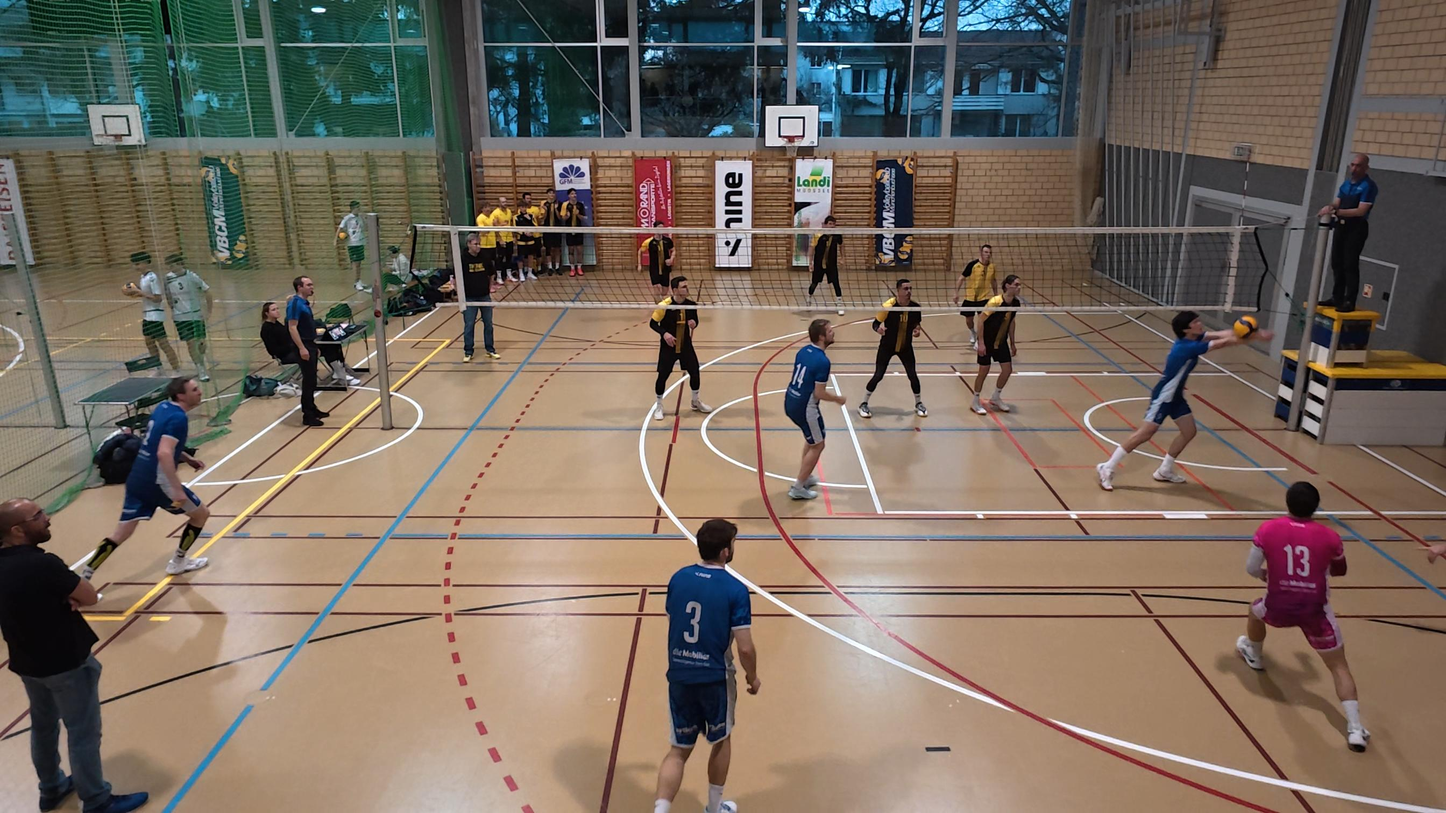difesa: (1091, 306, 1260, 492)
